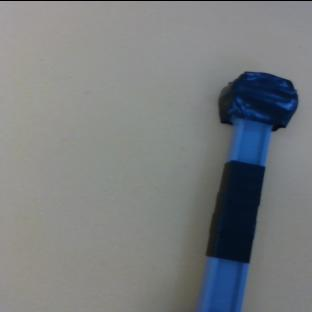part_3_bad: (163, 62, 303, 312)
